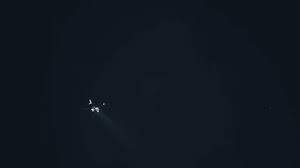Plane: (67, 88, 133, 132)
